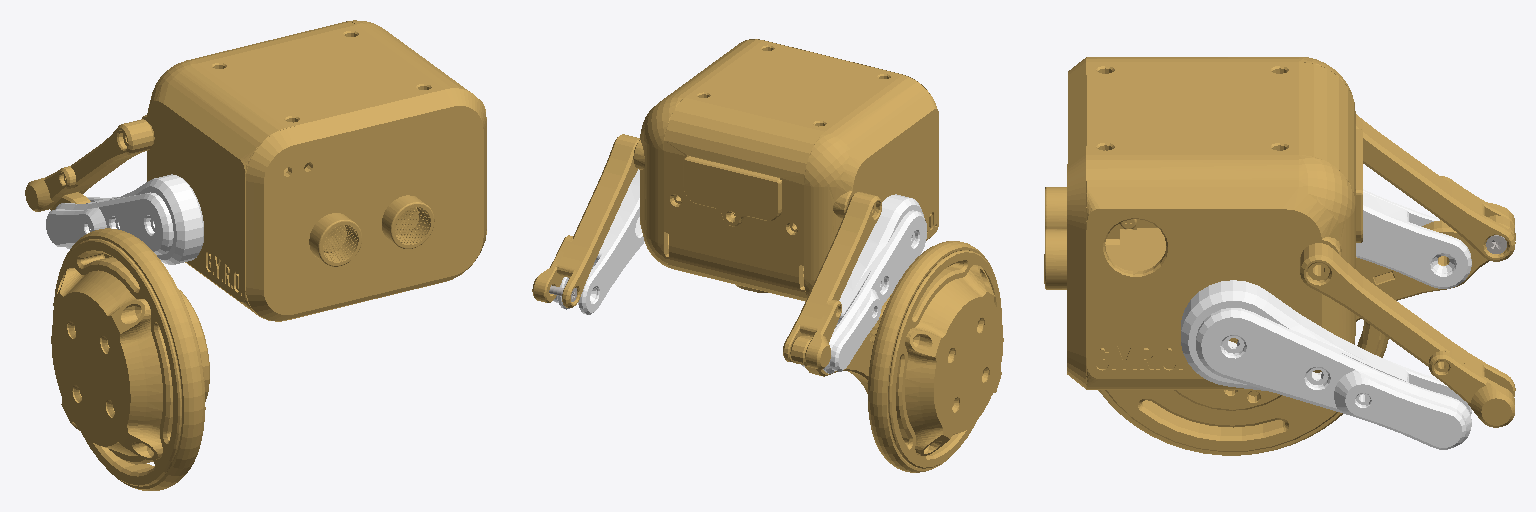
URDF robot description (modified_1):
<?xml version="1.0" encoding="utf-8"?>
<!-- This URDF was automatically created by SolidWorks to URDF Exporter! Originally created by Stephen Brawner (brawner@gmail.com) 
     Commit Version: 1.6.0-4-g7f85cfe  Build Version: 1.6.7995.38578
     For more information, please see http://wiki.ros.org/sw_urdf_exporter -->
<robot
  name="modified_1">
  <link
    name="base_link">
    <inertial>
      <origin
        xyz="-0.000139721800948994 -0.00891990633462313 0.0545743288244702"
        rpy="0 0 0" />
      <mass
        value="0.159950800278919" />
      <inertia
        ixx="0.000101651221170877"
        ixy="-5.0302731567758E-07"
        ixz="-3.14720393619454E-07"
        iyy="8.30155851213787E-05"
        iyz="-1.16211311274557E-07"
        izz="7.63971955860526E-05" />
    </inertial>
    <visual>
      <origin
        xyz="0 0 0"
        rpy="0 0 0" />
      <geometry>
        <mesh
          filename="package://modified_1/meshes/base_link.STL" />
      </geometry>
      <material
        name="">
        <color
          rgba="0.831372549019608 0.690196078431373 0.411764705882353 1" />
      </material>
    </visual>
    <collision>
      <origin
        xyz="0 0 0"
        rpy="0 0 0" />
      <geometry>
        <mesh
          filename="package://modified_1/meshes/base_link.STL" />
      </geometry>
    </collision>
  </link>
  <link
    name="left_upper_leg">
    <inertial>
      <origin
        xyz="-0.00184708719841338 0.0236194038571965 -0.0188708471716911"
        rpy="0 0 0" />
      <mass
        value="0.00481811091694472" />
      <inertia
        ixx="1.41741993389351E-06"
        ixy="1.13370741937808E-08"
        ixz="-9.26628865637623E-09"
        iyy="5.87668923661814E-07"
        iyz="6.66832782415844E-07"
        izz="8.92789652693596E-07" />
    </inertial>
    <visual>
      <origin
        xyz="0 0 0"
        rpy="0 0 0" />
      <geometry>
        <mesh
          filename="package://modified_1/meshes/left_upper_leg.STL" />
      </geometry>
      <material
        name="">
        <color
          rgba="0.831372549019608 0.690196078431373 0.411764705882353 1" />
      </material>
    </visual>
    <collision>
      <origin
        xyz="0 0 0"
        rpy="0 0 0" />
      <geometry>
        <mesh
          filename="package://modified_1/meshes/left_upper_leg.STL" />
      </geometry>
    </collision>
  </link>
  <joint
    name="left_hip_joint "
    type="revolute">
    <origin
      xyz="0.051451 0.021878 0.068469"
      rpy="0 0 0" />
    <parent
      link="base_link" />
    <child
      link="left_upper_leg" />
    <axis
      xyz="1 0 0" />
    <limit
      lower="-1.5708"
      upper="1.5708"
      effort="10"
      velocity="1" />
  </joint>
  <link
    name="left_upper2_leg">
    <inertial>
      <origin
        xyz="-0.00414252921375139 3.83026943495679E-15 1.23859256184744E-14"
        rpy="0 0 0" />
      <mass
        value="8.36842188089572E-05" />
      <inertia
        ixx="1.51263035687125E-10"
        ixy="-2.92510308208867E-23"
        ixz="-7.99236206421237E-24"
        iyy="8.84444398996497E-10"
        iyz="2.84074666803352E-26"
        izz="8.84444398996497E-10" />
    </inertial>
    <visual>
      <origin
        xyz="0 0 0"
        rpy="0 0 0" />
      <geometry>
        <mesh
          filename="package://modified_1/meshes/left_upper2_leg.STL" />
      </geometry>
      <material
        name="">
        <color
          rgba="0.776470588235294 0.756862745098039 0.737254901960784 1" />
      </material>
    </visual>
    <collision>
      <origin
        xyz="0 0 0"
        rpy="0 0 0" />
      <geometry>
        <mesh
          filename="package://modified_1/meshes/left_upper2_leg.STL" />
      </geometry>
    </collision>
  </link>
  <joint
    name="left_upper_bottom_joint"
    type="revolute">
    <origin
      xyz="0.00175 0.046852 -0.037482"
      rpy="0 0 0" />
    <parent
      link="left_upper_leg" />
    <child
      link="left_upper2_leg" />
    <axis
      xyz="1 0 0" />
    <limit
      lower="-1.5708"
      upper="1.5708"
      effort="10"
      velocity="1" />
  </joint>
  <link
    name="left_white_link">
    <inertial>
      <origin
        xyz="-0.0035128478577741 0.0208055784097843 -0.0086248688053283"
        rpy="0 0 0" />
      <mass
        value="0.0136561808331651" />
      <inertia
        ixx="6.17217211082797E-06"
        ixy="6.90443705596075E-08"
        ixz="-2.99499015266392E-08"
        iyy="1.32025085773524E-06"
        iyz="1.84139858414213E-06"
        izz="5.01907606816515E-06" />
    </inertial>
    <visual>
      <origin
        xyz="0 0 0"
        rpy="0 0 0" />
      <geometry>
        <mesh
          filename="package://modified_1/meshes/left_white_link.STL" />
      </geometry>
      <material
        name="">
        <color
          rgba="1 1 1 1" />
      </material>
    </visual>
    <collision>
      <origin
        xyz="0 0 0"
        rpy="0 0 0" />
      <geometry>
        <mesh
          filename="package://modified_1/meshes/left_white_link.STL" />
      </geometry>
    </collision>
  </link>
  <joint
    name="left_white_top_joint"
    type="revolute">
    <origin
      xyz="0.054451 -0.00061239 0.048645"
      rpy="0 0 0" />
    <parent
      link="base_link" />
    <child
      link="left_white_link" />
    <axis
      xyz="1 0 0" />
    <limit
      lower="-1.5708"
      upper="1.5708"
      effort="10"
      velocity="1" />
  </joint>
  <link
    name="right_upper_leg">
    <inertial>
      <origin
        xyz="0.0018470863244802 0.0236194057798349 -0.0188708489279677"
        rpy="0 0 0" />
      <mass
        value="0.00481811136590154" />
      <inertia
        ixx="1.41741991571169E-06"
        ixy="-1.13370762068015E-08"
        ixz="9.26628703428964E-09"
        iyy="5.87668942963517E-07"
        iyz="6.66832776669703E-07"
        izz="8.92789616631109E-07" />
    </inertial>
    <visual>
      <origin
        xyz="0 0 0"
        rpy="0 0 0" />
      <geometry>
        <mesh
          filename="package://modified_1/meshes/right_upper_leg.STL" />
      </geometry>
      <material
        name="">
        <color
          rgba="0.831372549019608 0.690196078431373 0.411764705882353 1" />
      </material>
    </visual>
    <collision>
      <origin
        xyz="0 0 0"
        rpy="0 0 0" />
      <geometry>
        <mesh
          filename="package://modified_1/meshes/right_upper_leg.STL" />
      </geometry>
    </collision>
  </link>
  <joint
    name="right_hip_joint"
    type="revolute">
    <origin
      xyz="-0.051549 0.021878 0.068469"
      rpy="0 0 0" />
    <parent
      link="base_link" />
    <child
      link="right_upper_leg" />
    <axis
      xyz="1 0 0" />
    <limit
      lower="-1.5708"
      upper="1.5708"
      effort="10"
      velocity="1" />
  </joint>
  <link
    name="right_upper2_leg">
    <inertial>
      <origin
        xyz="0.00343830185049016 -0.0478887488385379 -0.0181790664517871"
        rpy="0 0 0" />
      <mass
        value="0.0110711529598184" />
      <inertia
        ixx="9.0007540379993E-06"
        ixy="1.30721587577093E-07"
        ixz="5.34887726648426E-08"
        iyy="1.93441596829522E-06"
        iyz="-2.43582565360887E-06"
        izz="7.12253945459055E-06" />
    </inertial>
    <visual>
      <origin
        xyz="0 0 0"
        rpy="0 0 0" />
      <geometry>
        <mesh
          filename="package://modified_1/meshes/right_upper2_leg.STL" />
      </geometry>
      <material
        name="">
        <color
          rgba="0.831372549019608 0.690196078431373 0.411764705882353 1" />
      </material>
    </visual>
    <collision>
      <origin
        xyz="0 0 0"
        rpy="0 0 0" />
      <geometry>
        <mesh
          filename="package://modified_1/meshes/right_upper2_leg.STL" />
      </geometry>
    </collision>
  </link>
  <joint
    name="right_upper_bottom_joint"
    type="revolute">
    <origin
      xyz="-0.00175 0.046852 -0.037482"
      rpy="0 0 0" />
    <parent
      link="right_upper_leg" />
    <child
      link="right_upper2_leg" />
    <axis
      xyz="1 0 0" />
    <limit
      lower="-1.5708"
      upper="1.5708"
      effort="10"
      velocity="1" />
  </joint>
  <link
    name="right_white_link">
    <inertial>
      <origin
        xyz="0.0035128479133551 0.0208055772281946 -0.00862486827103258"
        rpy="0 0 0" />
      <mass
        value="0.0136561799341694" />
      <inertia
        ixx="6.17217108141907E-06"
        ixy="-6.90442920238213E-08"
        ixz="2.99499436830809E-08"
        iyy="1.3202508608405E-06"
        iyz="1.84139845052637E-06"
        izz="5.01907498804432E-06" />
    </inertial>
    <visual>
      <origin
        xyz="0 0 0"
        rpy="0 0 0" />
      <geometry>
        <mesh
          filename="package://modified_1/meshes/right_white_link.STL" />
      </geometry>
      <material
        name="">
        <color
          rgba="1 1 1 1" />
      </material>
    </visual>
    <collision>
      <origin
        xyz="0 0 0"
        rpy="0 0 0" />
      <geometry>
        <mesh
          filename="package://modified_1/meshes/right_white_link.STL" />
      </geometry>
    </collision>
  </link>
  <joint
    name="right_white_top_joint"
    type="revolute">
    <origin
      xyz="-0.054549 -0.00061239 0.048645"
      rpy="0 0 0" />
    <parent
      link="base_link" />
    <child
      link="right_white_link" />
    <axis
      xyz="1 0 0" />
    <limit
      lower="-1.5708"
      upper="1.5708"
      effort="10"
      velocity="1" />
  </joint>
  <link
    name="right_lower_leg">
    <inertial>
      <origin
        xyz="0.00414252921374671 0.013972663817677 0.00545570030685731"
        rpy="0 0 0" />
      <mass
        value="8.36842188089571E-05" />
      <inertia
        ixx="1.51263035687125E-10"
        ixy="-6.94411586074605E-26"
        ixz="-1.97147809112245E-25"
        iyy="8.84444398996498E-10"
        iyz="1.49883571991994E-26"
        izz="8.84444398996498E-10" />
    </inertial>
    <visual>
      <origin
        xyz="0 0 0"
        rpy="0 0 0" />
      <geometry>
        <mesh
          filename="package://modified_1/meshes/right_lower_leg.STL" />
      </geometry>
      <material
        name="">
        <color
          rgba="0.776470588235294 0.756862745098039 0.737254901960784 1" />
      </material>
    </visual>
    <collision>
      <origin
        xyz="0 0 0"
        rpy="0 0 0" />
      <geometry>
        <mesh
          filename="package://modified_1/meshes/right_lower_leg.STL" />
      </geometry>
    </collision>
  </link>
  <joint
    name="right_white_bottom_joint"
    type="revolute">
    <origin
      xyz="0.00125000000000025 0.0553693860096955 -0.0231134396598499"
      rpy="0 0 0" />
    <parent
      link="right_white_link" />
    <child
      link="right_lower_leg" />
    <axis
      xyz="1 0 0" />
    <limit
      lower="-1.5708"
      upper="1.5708"
      effort="10"
      velocity="1" />
  </joint>
  <link
    name="right_wheel">
    <inertial>
      <origin
        xyz="-0.0146672534556401 1.20019999952752E-05 8.21174448430162E-06"
        rpy="0 0 0" />
      <mass
        value="0.0821706494395544" />
      <inertia
        ixx="5.18920315428755E-05"
        ixy="-8.54718605347196E-09"
        ixz="-5.84490823842263E-09"
        iyy="2.85519960093762E-05"
        iyz="-2.86830700470208E-08"
        izz="2.85748220209757E-05" />
    </inertial>
    <visual>
      <origin
        xyz="0 0 0"
        rpy="0 0 0" />
      <geometry>
        <mesh
          filename="package://modified_1/meshes/right_wheel.STL" />
      </geometry>
      <material
        name="">
        <color
          rgba="0.831372549019608 0.690196078431373 0.411764705882353 1" />
      </material>
    </visual>
    <collision>
      <origin
        xyz="0 0 0"
        rpy="0 0 0" />
      <geometry>
        <mesh
          filename="package://modified_1/meshes/right_wheel.STL" />
      </geometry>
    </collision>
  </link>
  <joint
    name="right_wheel_joint"
    type="continuous">
    <origin
      xyz="0.00282521267245033 -0.0558906552705933 -0.0218228012275585"
      rpy="0 0 0" />
    <parent
      link="right_lower_leg" />
    <child
      link="right_wheel" />
    <axis
      xyz="-1 0 0" />
    <limit
      effort="10"
      velocity="5" />
  </joint>
</robot>

--- Render facts (derived) ---
Views: 3 orthographic renders of the robot side by side, from view 1: azimuth 30°, elevation 25°; view 2: azimuth 150°, elevation 25°; view 3: azimuth 270°, elevation 25°.
Model modified_1 with 9 links and 8 joints (7 revolute, 1 continuous), rooted at base_link, posed all joints at 0.
Visible links, largest first — view 1: base_link, right_wheel, right_white_link, right_upper_leg, right_upper2_leg; view 2: base_link, right_wheel, right_white_link, right_upper_leg, left_upper_leg, left_white_link, right_upper2_leg; view 3: base_link, left_white_link, right_wheel, left_upper_leg, right_upper_leg, right_white_link, right_upper2_leg.
Boxes of the visible links, x1,y1,x2,y2 form: base_link: [142, 20, 486, 321]; right_wheel: [51, 228, 205, 490]; right_white_link: [46, 174, 203, 264]; right_upper_leg: [25, 119, 154, 211]; right_upper2_leg: [50, 192, 209, 401]; base_link: [633, 39, 938, 301]; right_wheel: [868, 241, 1003, 472]; right_white_link: [802, 194, 926, 373]; right_upper_leg: [783, 192, 881, 369]; left_upper_leg: [532, 134, 639, 307]; left_white_link: [553, 169, 644, 314]; right_upper2_leg: [790, 294, 891, 393]; base_link: [1044, 57, 1362, 389]; left_white_link: [1181, 280, 1471, 449]; right_wheel: [1098, 321, 1388, 455]; left_upper_leg: [1300, 243, 1515, 427]; right_upper_leg: [1356, 114, 1515, 261]; right_white_link: [1356, 189, 1471, 288]; right_upper2_leg: [1174, 215, 1515, 410].
Bounding box of the posed robot: 0.1377 × 0.1242 × 0.1304 m (x, y, z).
9 mesh visuals loaded from 9 distinct referenced files (9 binary STL).
